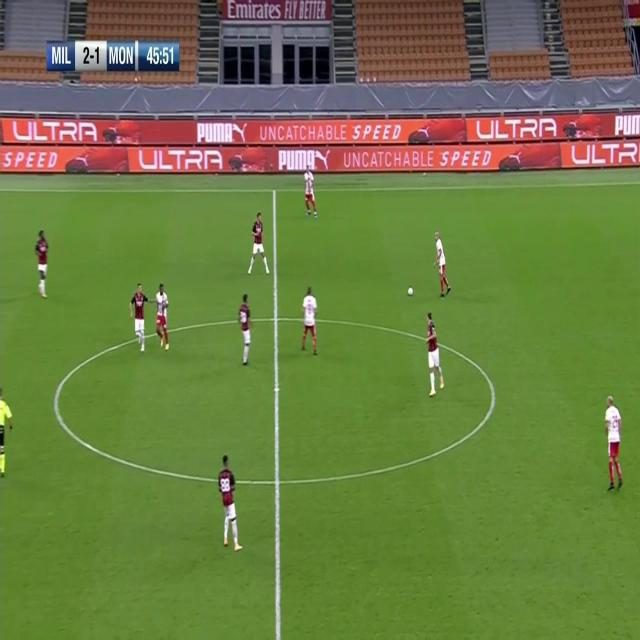ball: (407, 283, 414, 297)
player: (217, 454, 243, 553), (604, 394, 626, 493), (425, 310, 445, 398), (130, 280, 150, 353), (247, 210, 269, 276), (300, 284, 320, 356), (432, 228, 452, 298), (154, 281, 172, 351), (238, 293, 254, 367), (34, 228, 50, 298), (303, 163, 319, 220)
referee: (0, 385, 13, 478)
